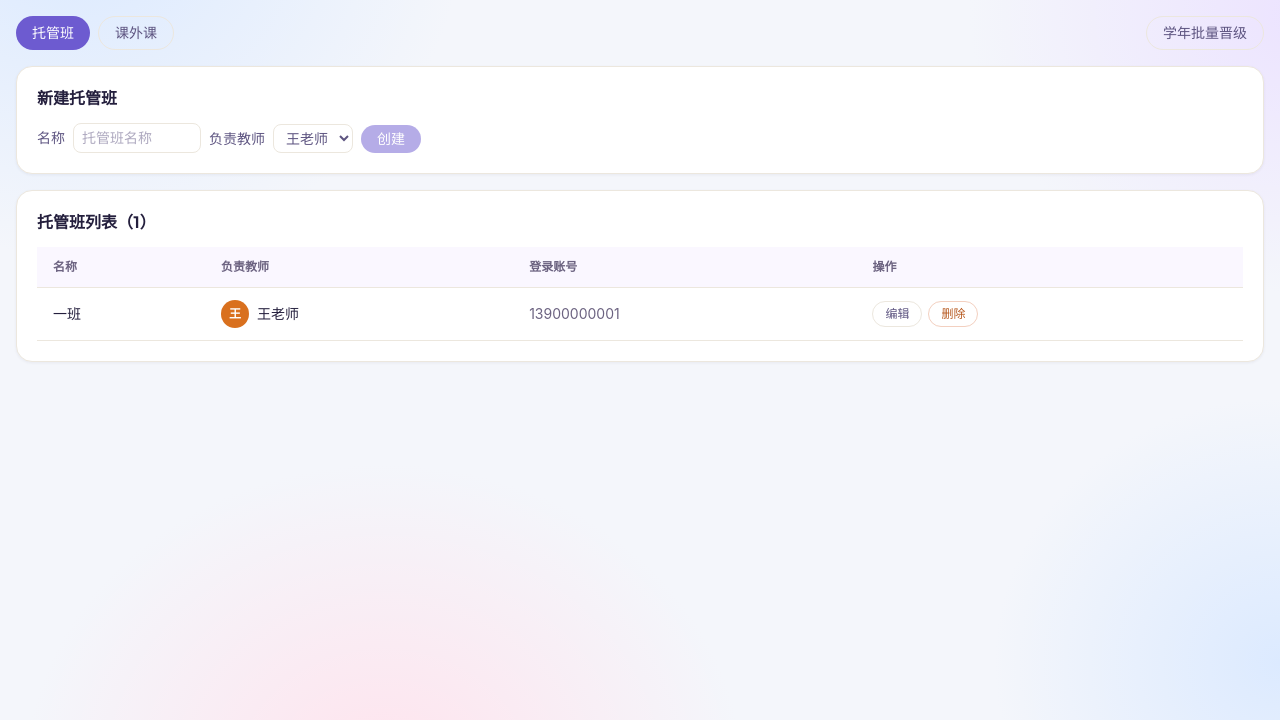
it: AdminTeachingUnitsModule › switches tabs and loads the other billing mode, showing duration/price columns only for 课外课
Check: the text "一班" is shown, box [53,305,81,322]
Check: the text "时长" is not shown
Click the tab "课外课".
click(136, 33)  # box [98,16,174,50]
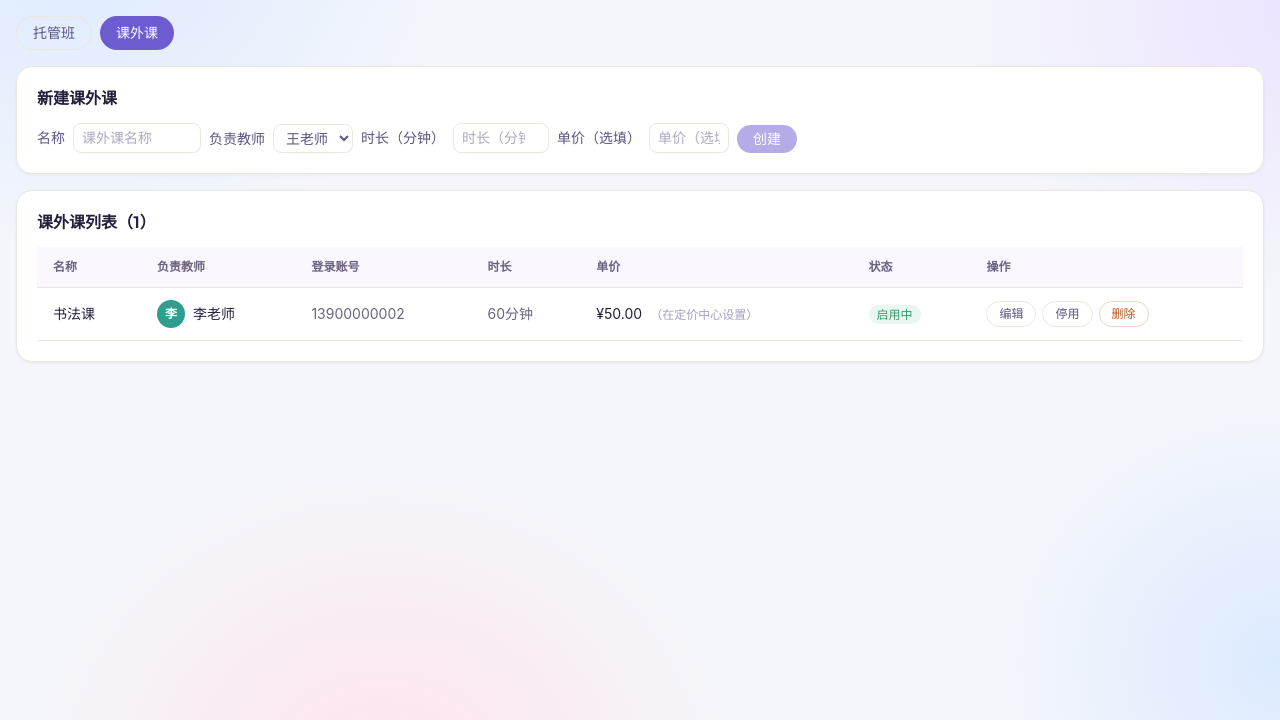
Check: the text "书法课" is shown, box [53,305,95,322]
Check: the column heading "时长" is shown, box [472,247,580,288]
Check: the text "60分钟" is shown, box [488,305,533,322]
